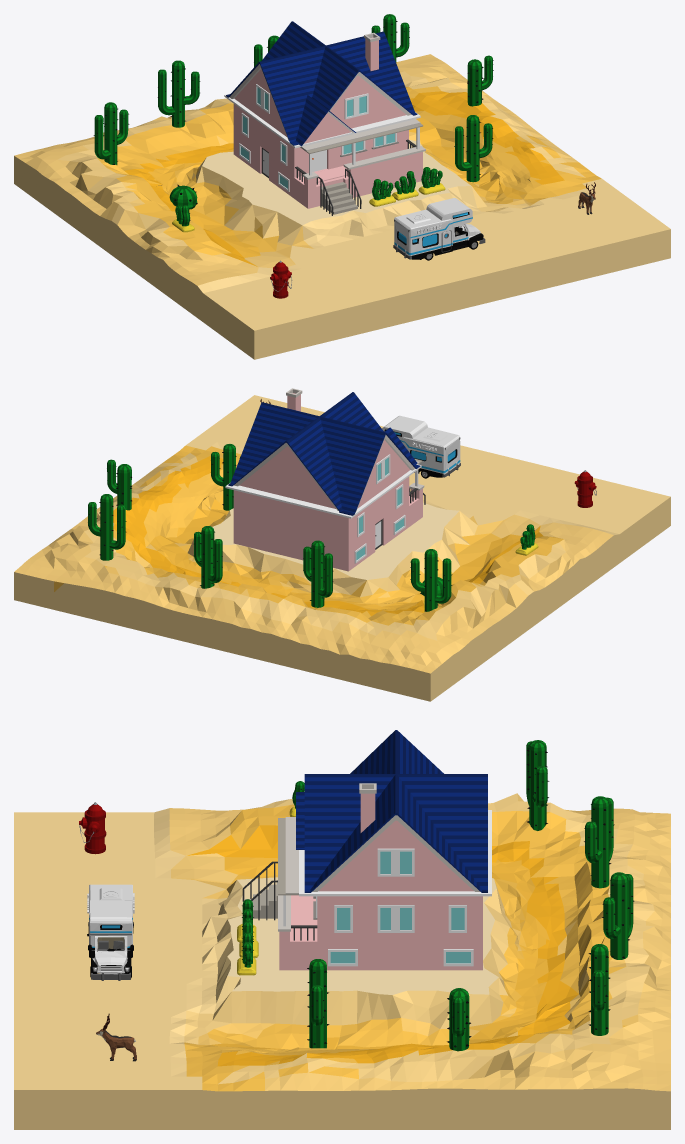
3 renders of one model, top to bottom at view 1: azimuth 30°, elevation 25°; view 2: azimuth 150°, elevation 25°; view 3: azimuth 270°, elevation 25°, orthographic. The views are drawn at different scales.
Parts seen in each view (by area): view 1: Cube.001, Cube.313, VEHICLES_CAMPER, Cylinder.037, Cylinder.044, Cylinder.045, Cylinder.038, Cylinder.042, OBJRANDOM_FIRE_HYDRANT, Cylinder.039, Cylinder.041, Sphere.023 (+1 smaller); view 2: Cube.001, Cube.313, VEHICLES_CAMPER, Cylinder.042, Cylinder.045, Cylinder.044, Cylinder.043, Cylinder.037, Cylinder.038, OBJRANDOM_FIRE_HYDRANT; view 3: Cube.001, Cube.313, VEHICLES_CAMPER, Cylinder.043, Cylinder.044, Cylinder.045, Cylinder.042, Cylinder.037, Cylinder.038, OBJRANDOM_FIRE_HYDRANT, Cylinder.041, ANIMAL_VENADO.
Part boxes in pixels (box(x1,y1,x2,y2)): Cube.001: box(14, 54, 670, 359); Cube.313: box(224, 21, 425, 215); VEHICLES_CAMPER: box(393, 198, 485, 260); Cylinder.037: box(454, 115, 493, 182); Cylinder.044: box(157, 60, 200, 127); Cylinder.045: box(93, 102, 129, 164); Cylinder.038: box(467, 55, 493, 106); Cylinder.042: box(371, 14, 409, 62); OBJRANDOM_FIRE_HYDRANT: box(270, 260, 292, 298); Cylinder.039: box(369, 179, 395, 206); Cylinder.041: box(418, 167, 445, 194); Sphere.023: box(169, 184, 197, 209); Cube.001: box(14, 395, 670, 701); Cube.313: box(225, 388, 425, 571); VEHICLES_CAMPER: box(382, 415, 460, 478); Cylinder.042: box(88, 494, 126, 560); Cylinder.045: box(410, 549, 452, 611); Cylinder.044: box(303, 540, 333, 607); Cylinder.043: box(193, 526, 222, 588); Cylinder.037: box(211, 444, 240, 510); Cylinder.038: box(107, 459, 131, 510); OBJRANDOM_FIRE_HYDRANT: box(574, 470, 596, 507); Cube.001: box(14, 793, 670, 1129); Cube.313: box(242, 730, 491, 970); VEHICLES_CAMPER: box(87, 884, 134, 980); Cylinder.043: box(602, 872, 634, 959); Cylinder.044: box(584, 796, 614, 888); Cylinder.045: box(526, 740, 549, 830); Cylinder.042: box(588, 944, 610, 1035); Cylinder.037: box(307, 959, 329, 1048); Cylinder.038: box(447, 988, 471, 1051); OBJRANDOM_FIRE_HYDRANT: box(79, 802, 106, 854); Cylinder.041: box(237, 932, 256, 975); ANIMAL_VENADO: box(96, 1013, 136, 1061).
Size of the model in its own units: 4002 by 1627 by 4001.
38 materials, 2 textured.
